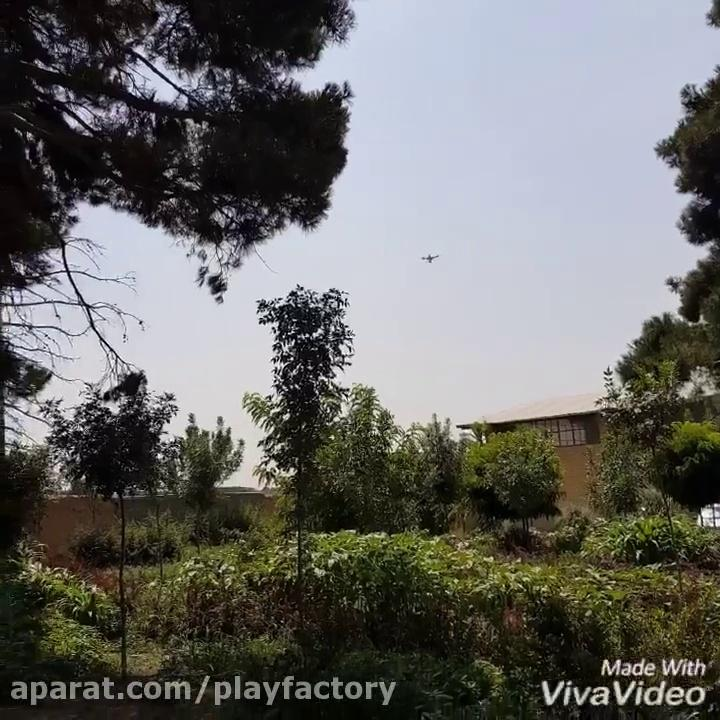drone: (417, 248, 441, 266)
